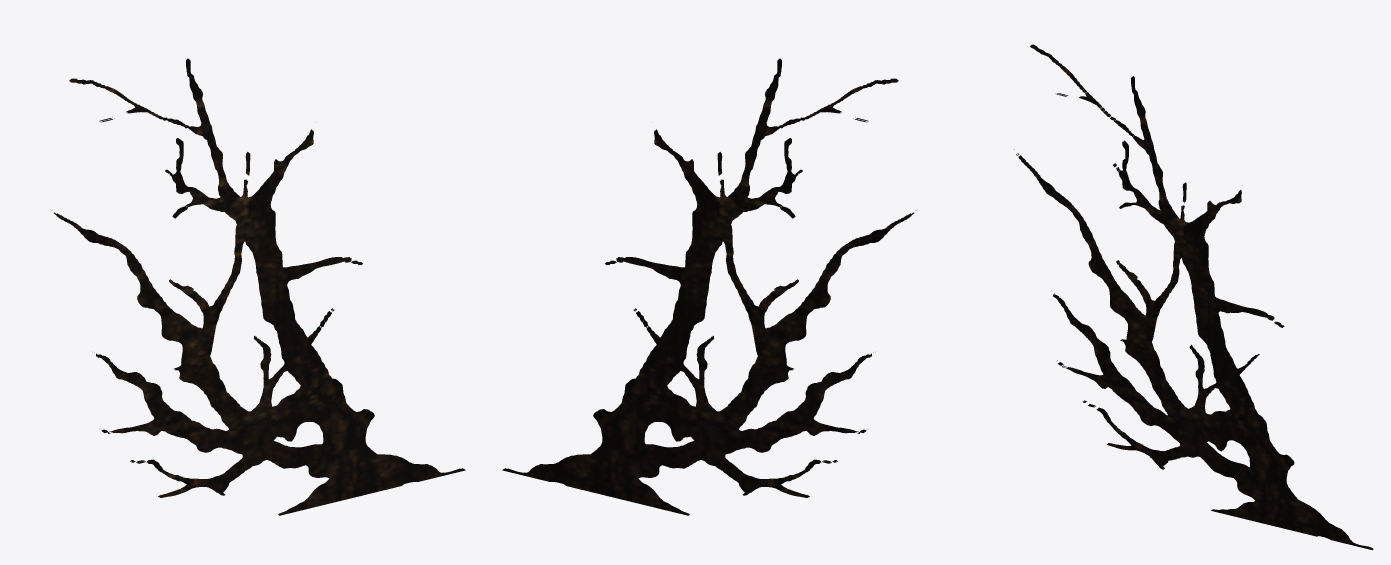
The model's file is branch2.fbx.
The picture shows the model from 3 angles, left to right: view 1: azimuth 30°, elevation 25°; view 2: azimuth 150°, elevation 25°; view 3: azimuth 330°, elevation 25°; orthographic projection. The views are drawn at different scales.
Parts seen in each view (by area): view 1: Plane_090; view 2: Plane_090; view 3: Plane_090.
Part boxes in pixels (x1,y1,x2,y2): Plane_090: (50, 58, 465, 515); Plane_090: (502, 58, 917, 515); Plane_090: (1014, 44, 1373, 550).
Size of the model in its own units: 1.87 by 2 by 0.01.
